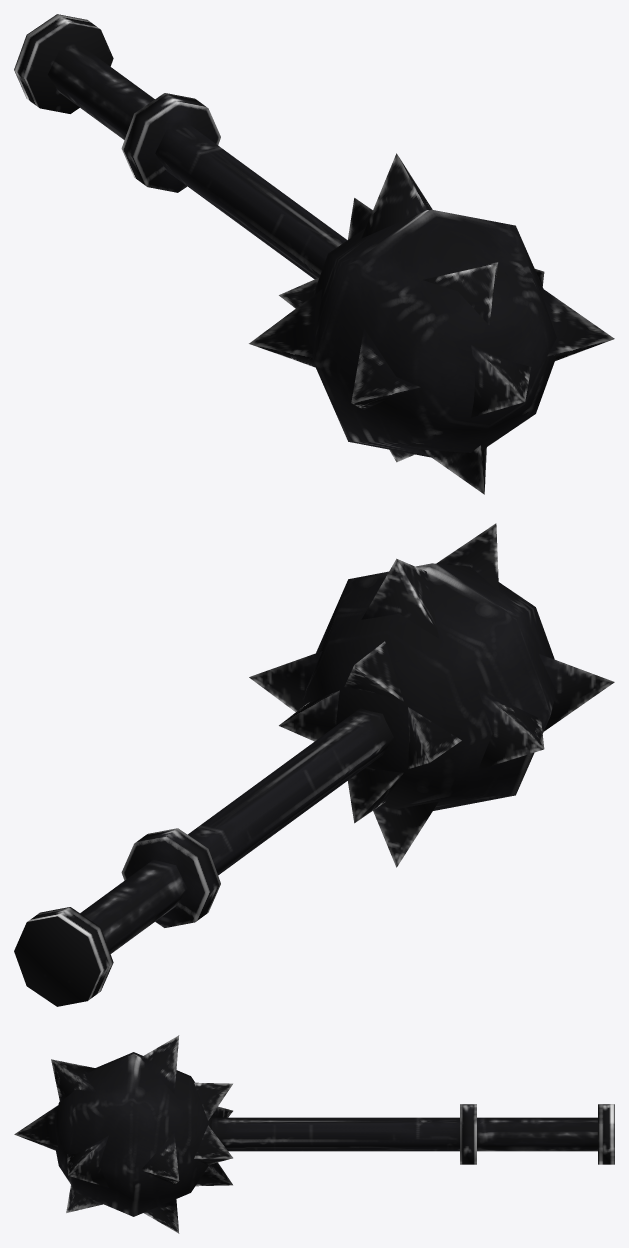
The model's file is MaceA.fbx.
3 views of the same model, one above another, from view 1: azimuth 30°, elevation 25°; view 2: azimuth 150°, elevation 25°; view 3: azimuth 270°, elevation 25° (orthographic). The views are drawn at different scales.
Visible parts, largest first — view 1: MaceA; view 2: MaceA; view 3: MaceA.
Boxes of the visible parts, box(x1,y1,x2,y2) form: MaceA: box(14, 14, 614, 494); MaceA: box(14, 523, 614, 1006); MaceA: box(14, 1035, 614, 1233).
Bounding box in the file's own units: 10.68 × 10.68 × 29.3.
